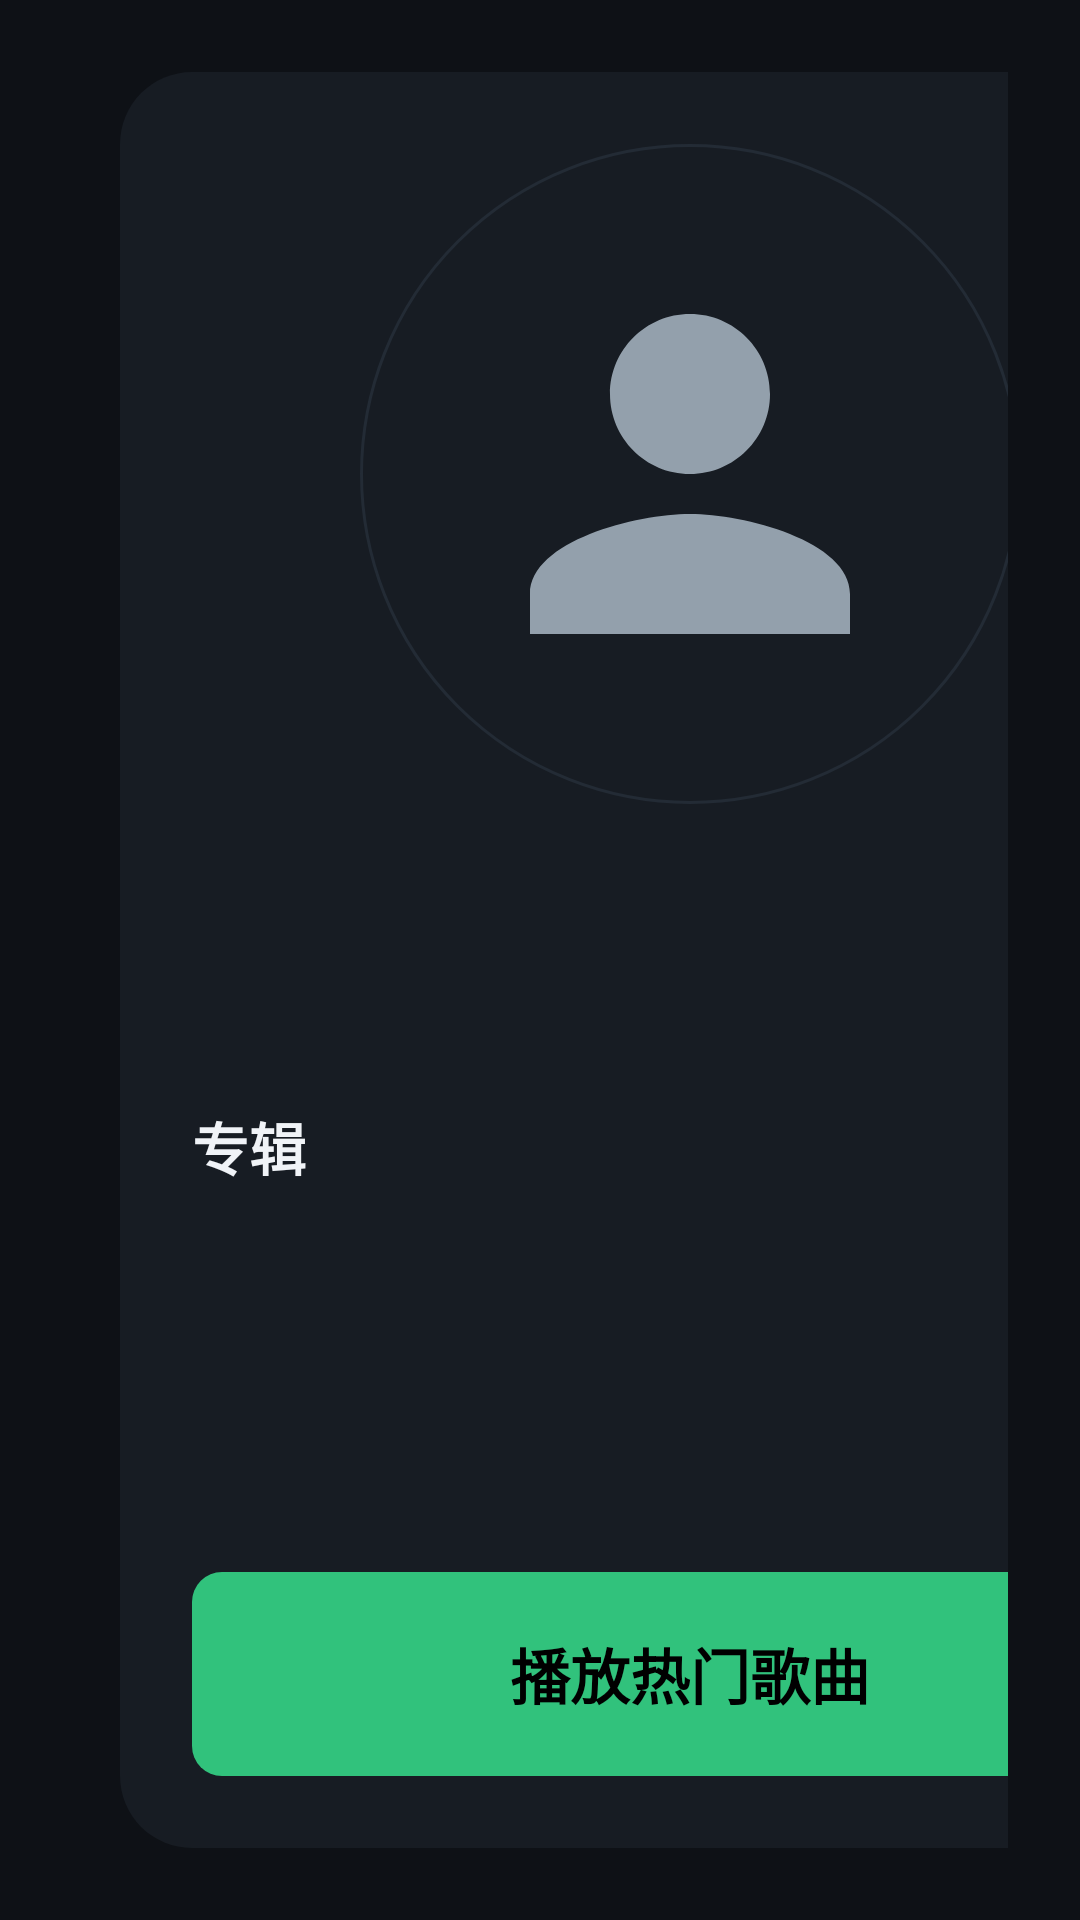

Point at icon controls on the screen. Image size 1080px x 1920px, points as [x,y].
歌手头像: [690,474]
